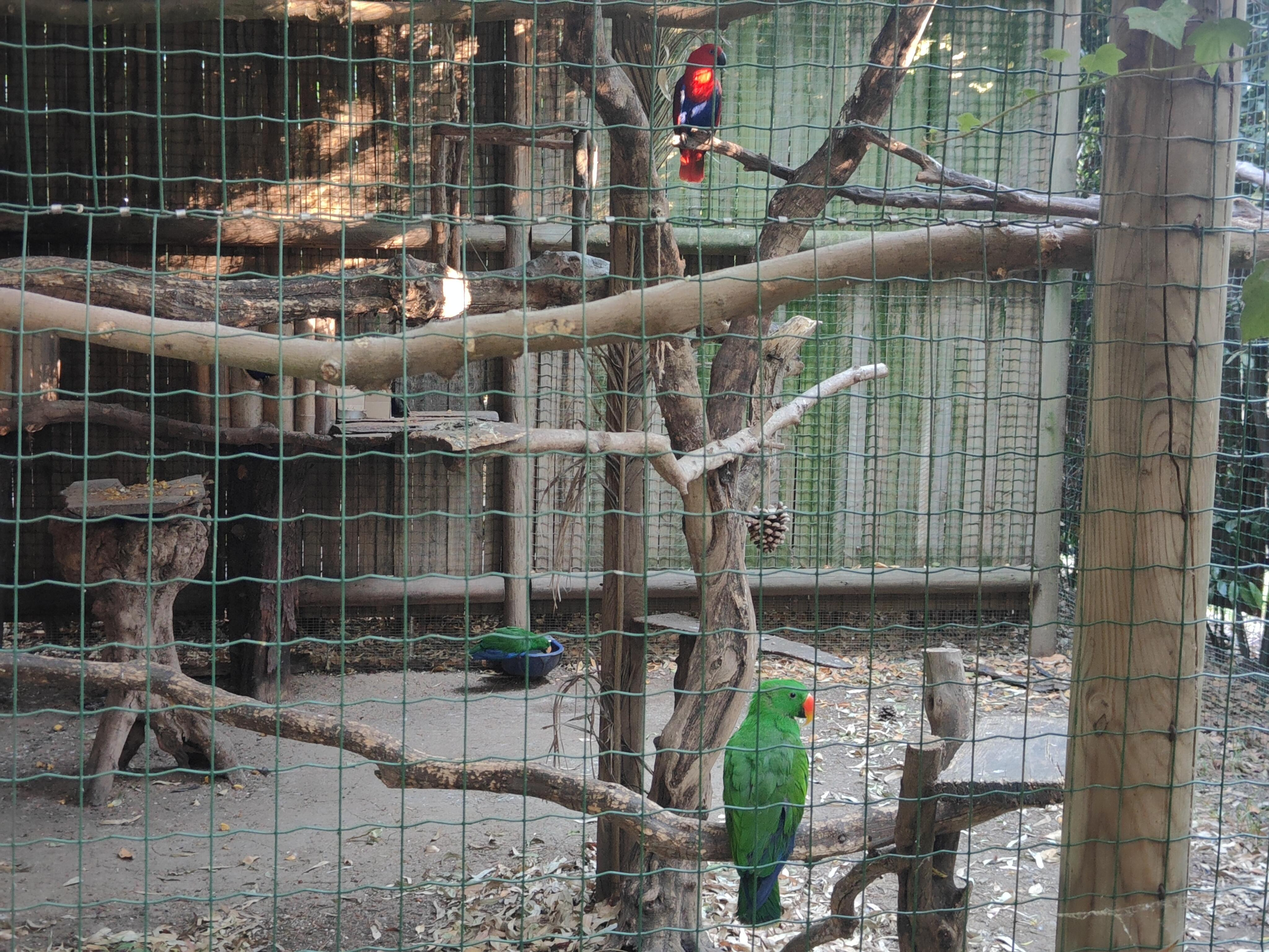apple: (724, 679, 814, 929), (673, 43, 727, 184), (470, 626, 551, 654)
